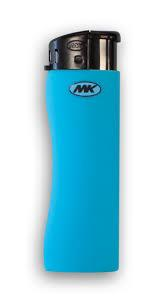lighter: (44, 31, 119, 271)
